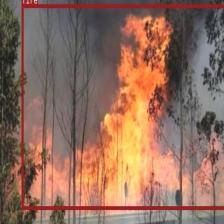fire: (21, 3, 224, 209)
